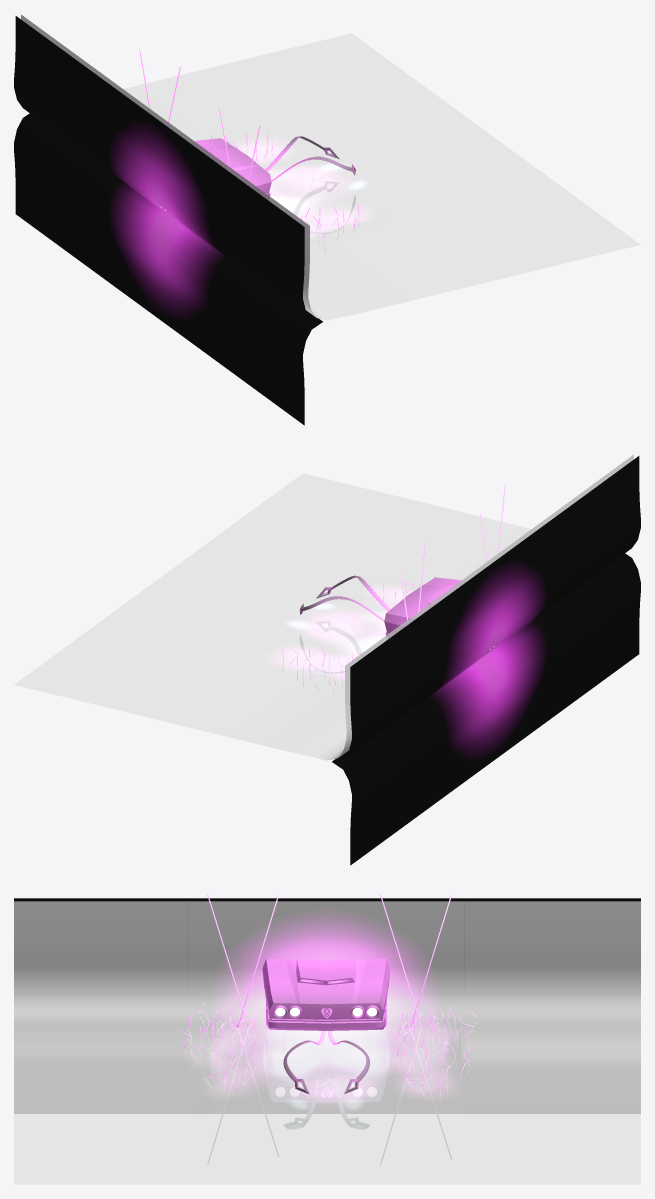
File: kda_evelynn_dance_stage_moonlight_edition.glb
3 views of the same model, one above another, from view 1: azimuth 30°, elevation 25°; view 2: azimuth 150°, elevation 25°; view 3: azimuth 270°, elevation 25° (orthographic). The views are drawn at different scales.
Parts seen in each view (by area): view 1: Plane.007, G, Cube.003, Cylinder.102; view 2: Plane.007, G, Cube.003, Cylinder.102; view 3: Plane.007, G, Cube.003, Cube.005, Cylinder.102, Light.
Boxes of the visible parts, x1=… form: Plane.007: x1=21, y1=14, x2=640, y2=320; G: x1=14, y1=16, x2=322, y2=425; Cube.003: x1=160, y1=136, x2=355, y2=210; Cylinder.102: x1=139, y1=49, x2=359, y2=238; Plane.007: x1=14, y1=454, x2=633, y2=760; G: x1=332, y1=456, x2=640, y2=865; Cube.003: x1=299, y1=575, x2=494, y2=649; Cylinder.102: x1=282, y1=485, x2=505, y2=683; Plane.007: x1=14, y1=901, x2=640, y2=1184; G: x1=14, y1=898, x2=640, y2=1113; Cube.003: x1=262, y1=958, x2=389, y2=1094; Cube.005: x1=184, y1=1019, x2=468, y2=1162; Cylinder.102: x1=180, y1=894, x2=477, y2=1090; Light: x1=275, y1=1007, x2=377, y2=1096.
Size of the model in its own units: 38.68 by 27.21 by 57.32.
Materials: 10 (4 with a texture image).
